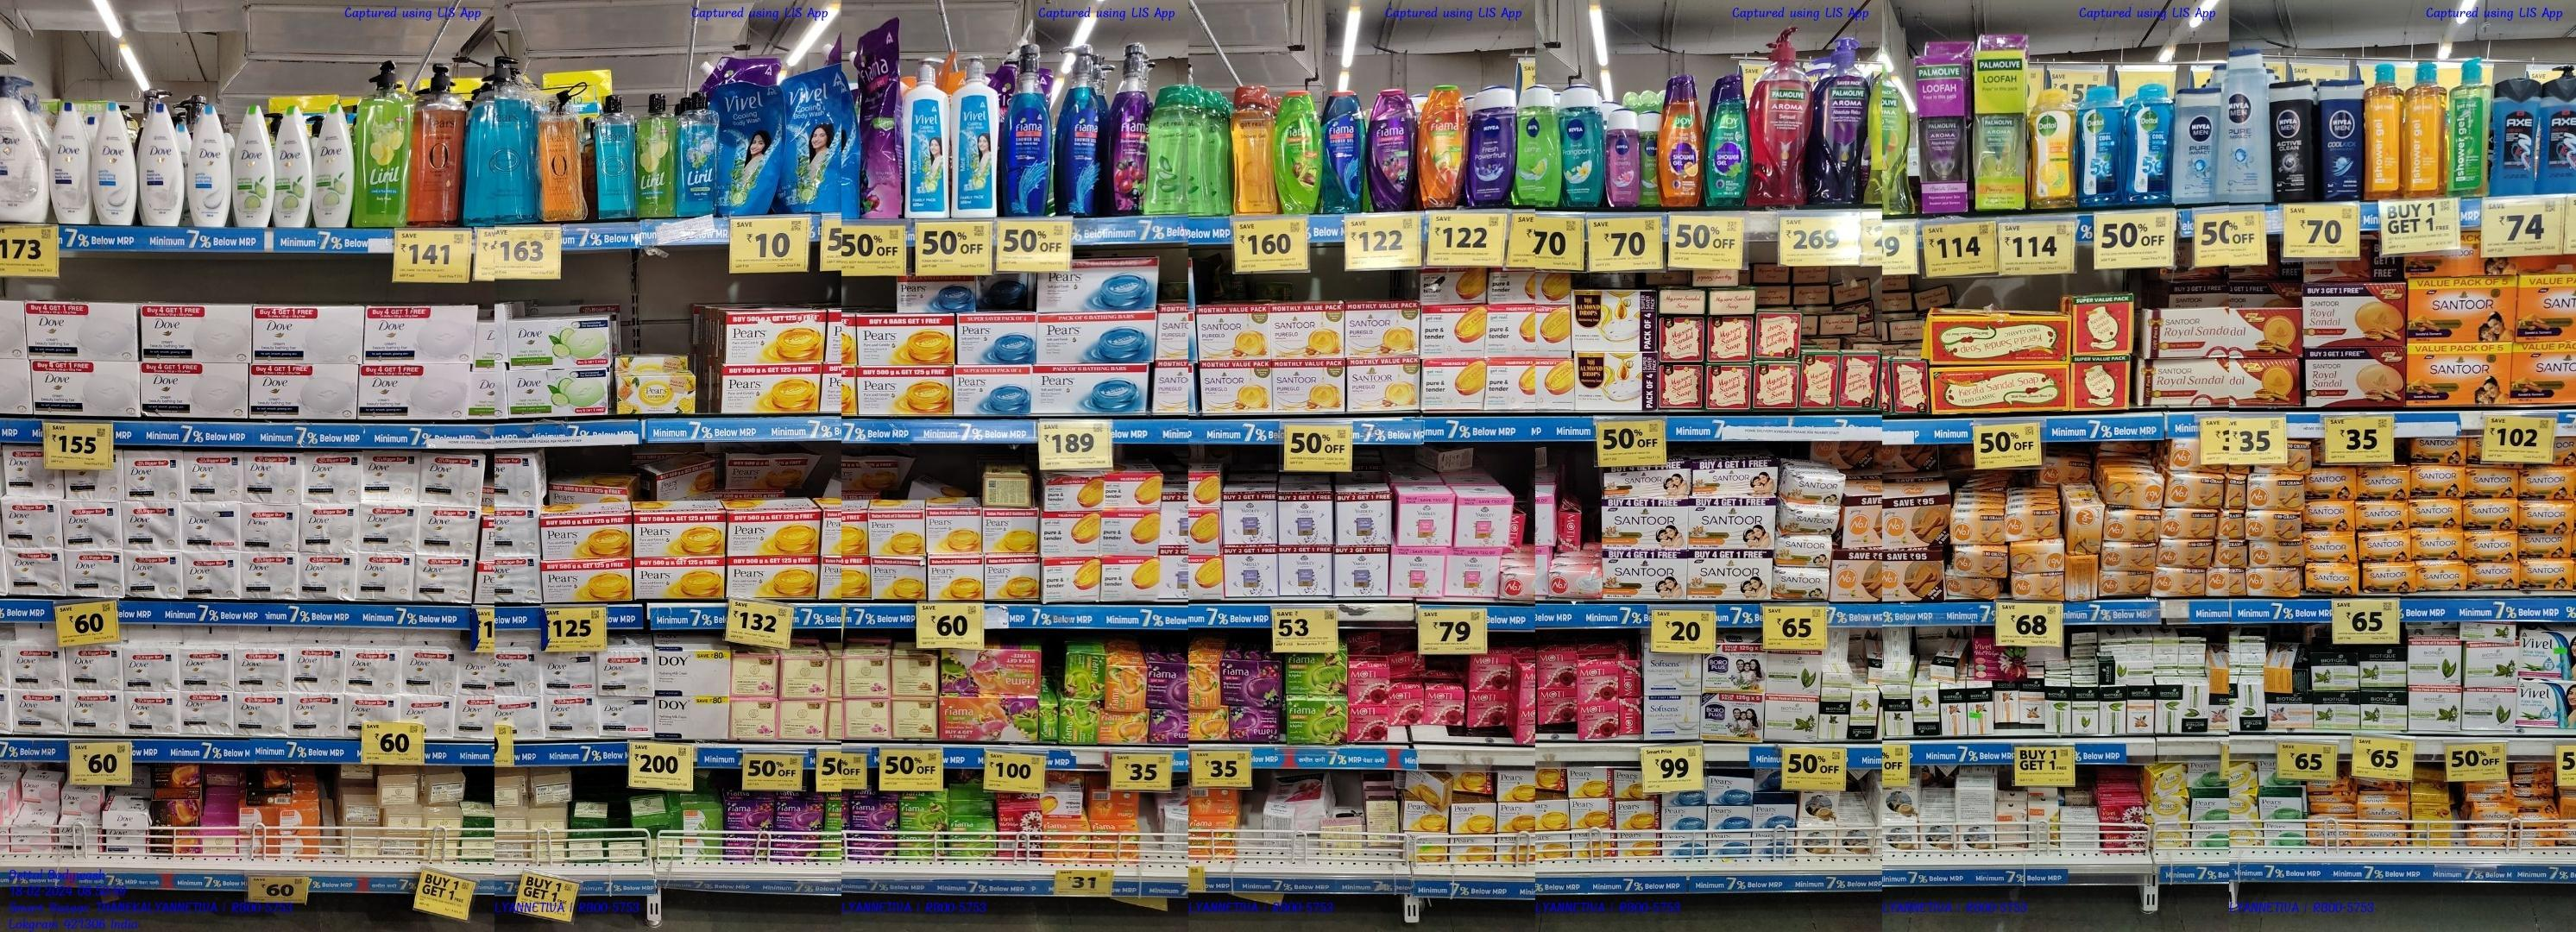Dettol_Bodywash_Cool: (2124, 84, 2169, 205), (2078, 84, 2121, 202)
Dettol_Bodywash_Refresh: (2031, 89, 2075, 207)
Dove_Deep_Moisture_Body_Wash_250ML: (138, 102, 184, 224), (51, 104, 92, 224)
Dove_Gentle_Exfoliating_Body_Wash_250ML: (186, 102, 232, 224), (94, 102, 138, 224)
Dove_Refreshing_Body_Wash_250ML: (312, 100, 353, 227), (233, 99, 273, 228), (276, 102, 310, 227)
Fiama_Shower_Gel_Lemongrass_and_Jojoba_250ML: (1281, 90, 1321, 212)
Fiama_Shower_Gel_Peach_and_Avocado_250ML: (1419, 82, 1462, 204)
Get_Real_Shower_Gel_Moisturising_Glycerin_300ML: (1234, 87, 1278, 215)
Joy_Shower_Gel_Mandarin_and_Lemongrass_250ML: (1664, 76, 1702, 209)
Joy_Shower_Gel_Mint_and_Eucalyptus_250ML: (1705, 74, 1748, 205)
Liril_Cooling_Mint_Body_Wash_250ML: (677, 95, 718, 214)
Liril_Lime_and_Tea_Tree_Oil_Body_Wash_250ML: (637, 92, 675, 219)
Nivea_Shower_Gel_Frangipani_and_Oil_250ML: (1561, 87, 1602, 207)
Nivea_Shower_Gel_Fresh_Powerfruit_250ML: (1469, 87, 1515, 209)
Nivea_Shower_Gel_Lemon_and_Oil_250ML: (1518, 84, 1561, 209)
Pears_Pure_Glycerin_and_Mint_Extracts_Body_Wash_250ML: (596, 94, 636, 222)
